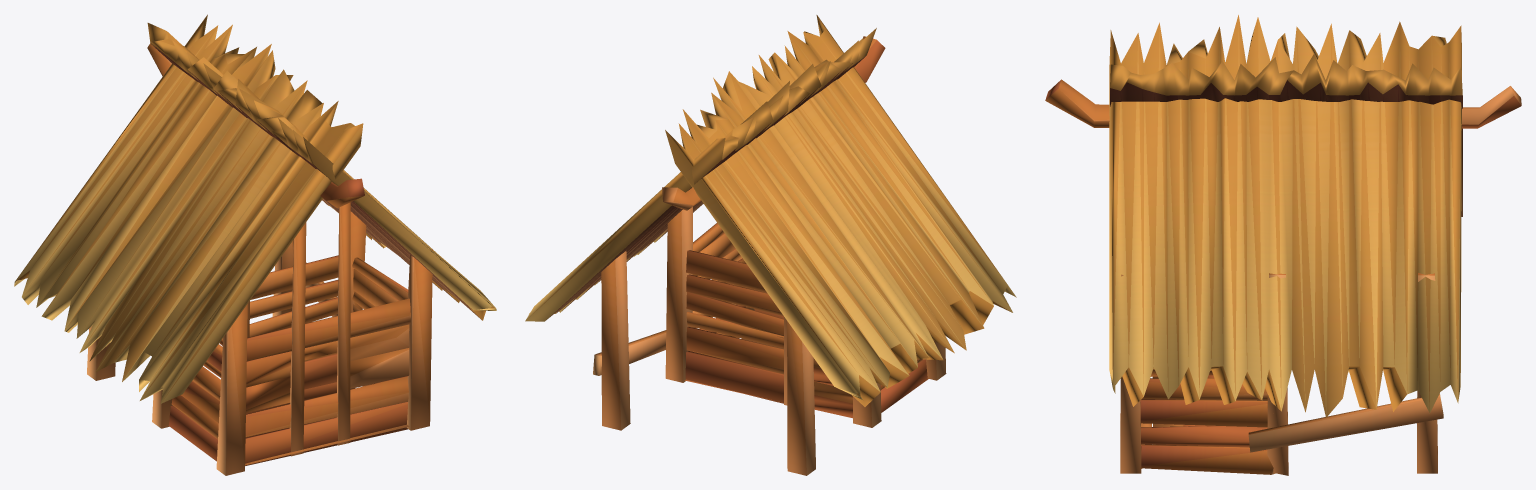
Rendered from GL-Manmade-04.fbx.
3 views of the same model, side by side, from view 1: azimuth 30°, elevation 25°; view 2: azimuth 150°, elevation 25°; view 3: azimuth 270°, elevation 25° (orthographic). The views are drawn at different scales.
Parts seen in each view (by area): view 1: GL-Manmade-04; view 2: GL-Manmade-04; view 3: GL-Manmade-04.
Part boxes in pixels (x1,y1,x2,y2): GL-Manmade-04: (14, 14, 496, 475); GL-Manmade-04: (525, 15, 1016, 475); GL-Manmade-04: (1045, 15, 1521, 475).
Size of the model in its own units: 1.48 by 1.34 by 1.49.
